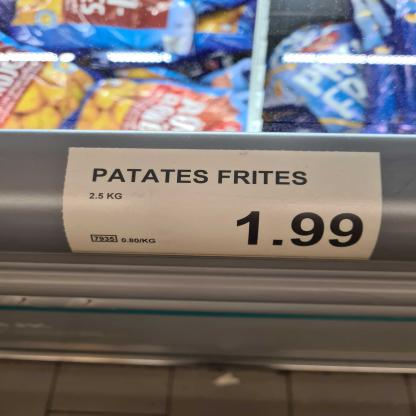prtg: (61, 149, 384, 261)
